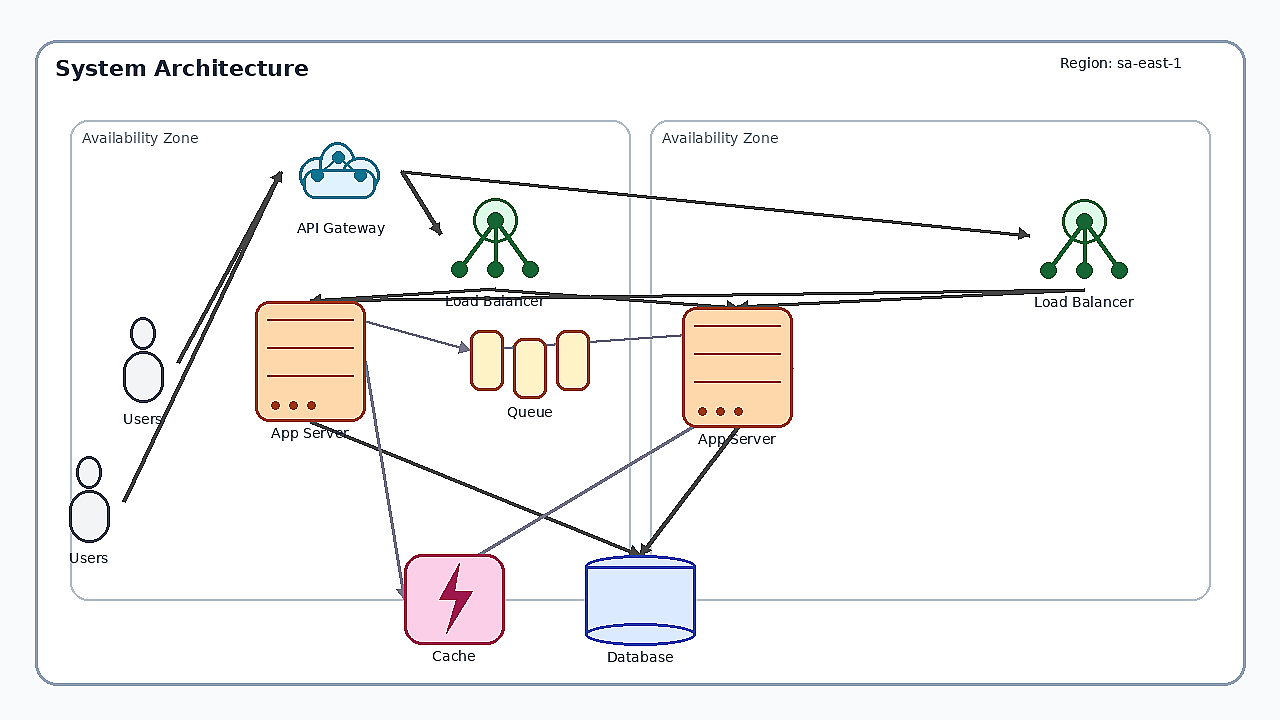API Gateway: (281, 126, 401, 216)
Application Server: (255, 301, 365, 421), (682, 307, 792, 427)
Cache: (404, 554, 504, 644)
Database: (585, 555, 695, 645)
Load Balancer: (440, 179, 550, 289), (1029, 180, 1139, 290)
Message Queue: (470, 330, 590, 400)
User: (108, 317, 178, 407), (54, 456, 124, 546)
